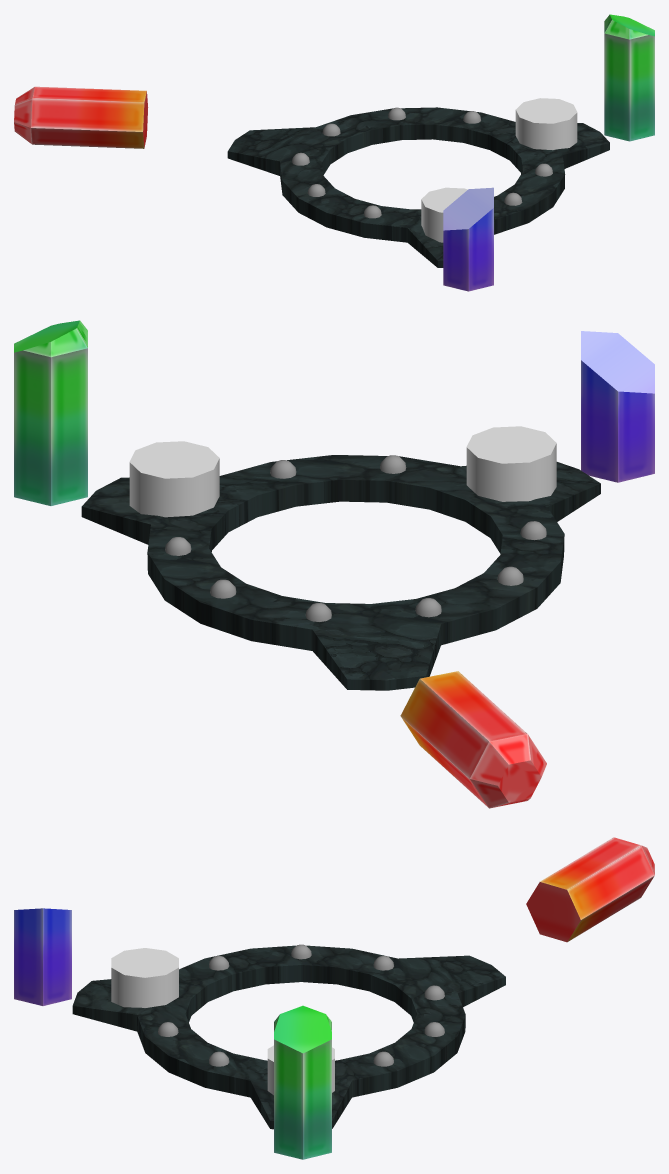
File: RGB portal destroyed.FBX
3 views of the same model, one above another, from view 1: azimuth 30°, elevation 25°; view 2: azimuth 150°, elevation 25°; view 3: azimuth 270°, elevation 25° (orthographic). The views are drawn at different scales.
Visible parts, largest first — view 1: Cylinder001, Cylinder004, Object001, Cylinder002; view 2: Cylinder001, Cylinder004, Cylinder002, Object001; view 3: Cylinder001, Cylinder002, Object001.
Boxes of the visible parts, <box> form: Cylinder001: <box>14,14,654,291</box>; Cylinder004: <box>515,98,577,150</box>; Object001: <box>292,107,552,218</box>; Cylinder002: <box>421,187,467,242</box>; Cylinder001: <box>14,320,654,808</box>; Cylinder004: <box>129,441,219,517</box>; Cylinder002: <box>466,426,556,501</box>; Object001: <box>165,455,546,621</box>; Cylinder001: <box>14,837,654,1159</box>; Cylinder002: <box>111,948,178,1007</box>; Object001: <box>158,944,444,1066</box>.
Bounding box in the file's own units: 229 × 50.43 × 221.
